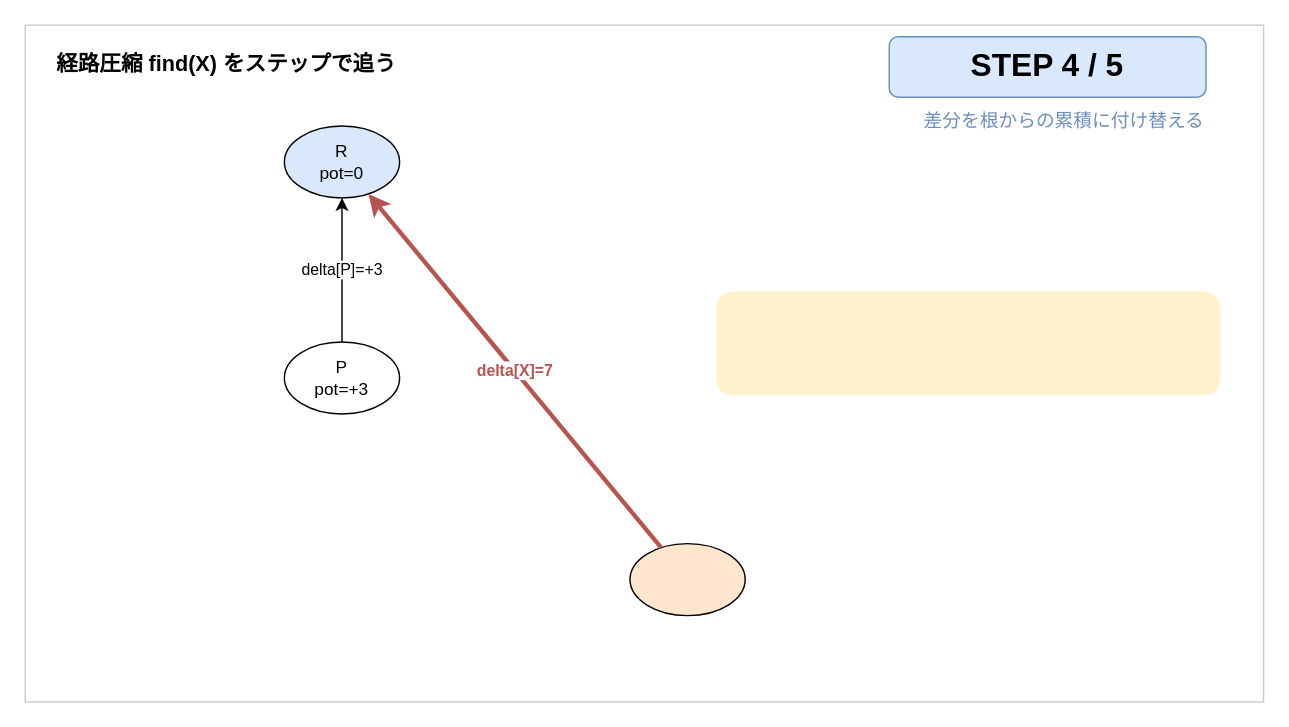
The diagram is 1289 pixels wide and 727 high, and some of its shapes have lost their labels. Each missing label, with the centre of its shape:
"delta[X] = delta[X] + delta[P] = 4 + 3 = 7 （自分の差分 ＋ 親 P の差分）" belongs at (x=968, y=343).
"X pot=+7" belongs at (x=687, y=579).
